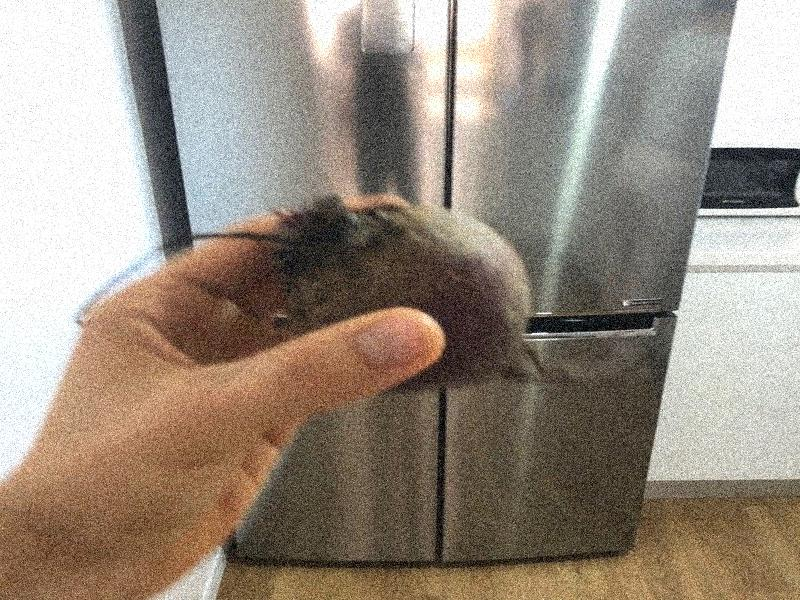Beet: (75, 195, 574, 391)
